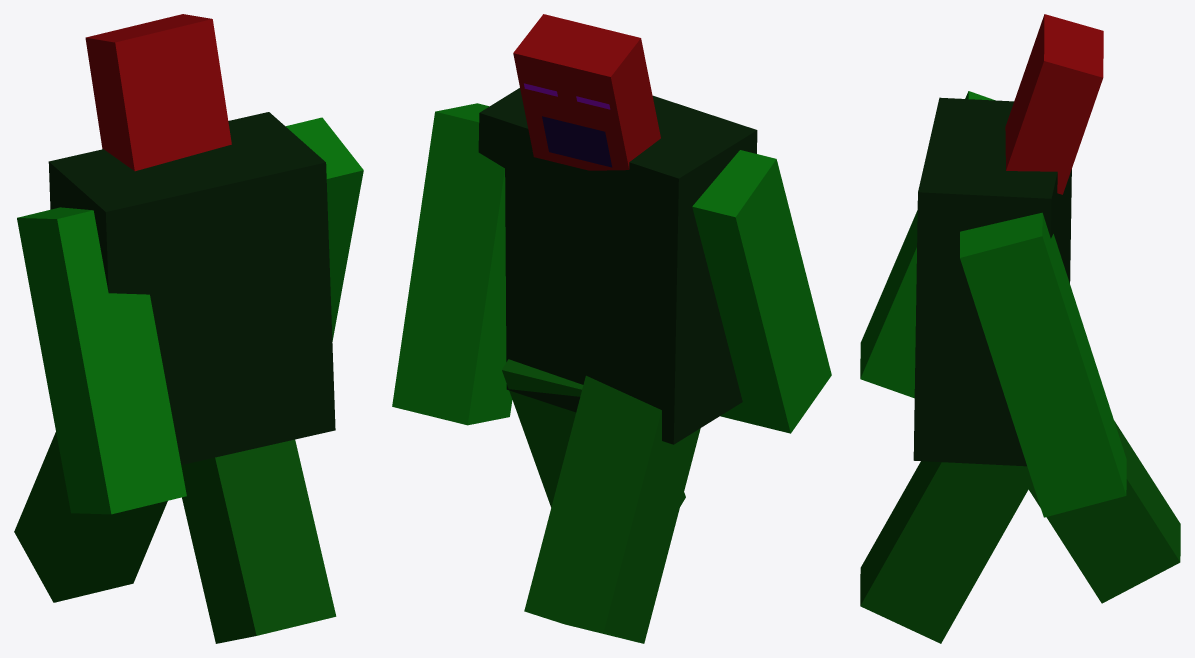
File: walk_000008.obj
3 views of the same model, side by side, from view 1: azimuth 30°, elevation 25°; view 2: azimuth 150°, elevation 25°; view 3: azimuth 270°, elevation 25° (orthographic).
Parts seen in each view (by area): view 1: Cube, leg.003_Cube.002, leg.001_Cube.007, Cube.001_Cube.003, leg_Cube.001, leg.002_Cube.006; view 2: Cube, leg_Cube.001, leg.002_Cube.006, leg.003_Cube.002, Cube.001_Cube.003, leg.001_Cube.007, Plane.002; view 3: Cube, leg.002_Cube.006, leg.001_Cube.007, Cube.001_Cube.003, leg_Cube.001, leg.003_Cube.002.
Boxes of the visible parts, x1,y1,x2,y2 form: Cube: [48, 112, 335, 464]; leg.003_Cube.002: [17, 207, 186, 514]; leg.001_Cube.007: [182, 439, 336, 643]; Cube.001_Cube.003: [85, 14, 231, 171]; leg_Cube.001: [14, 432, 182, 602]; leg.002_Cube.006: [286, 117, 363, 341]; Cube: [478, 88, 757, 444]; leg_Cube.001: [524, 375, 700, 643]; leg.002_Cube.006: [392, 103, 512, 425]; leg.003_Cube.002: [692, 150, 831, 433]; Cube.001_Cube.003: [513, 14, 660, 170]; leg.001_Cube.007: [502, 359, 685, 507]; Plane.002: [542, 116, 612, 167]; Cube: [913, 97, 1071, 466]; leg.002_Cube.006: [960, 212, 1126, 517]; leg.001_Cube.007: [860, 461, 1032, 643]; Cube.001_Cube.003: [1005, 14, 1103, 194]; leg_Cube.001: [1028, 420, 1180, 603]; leg.003_Cube.002: [860, 91, 994, 398].
Bounding box in the file's own units: 3.48 × 6.3 × 3.22.
